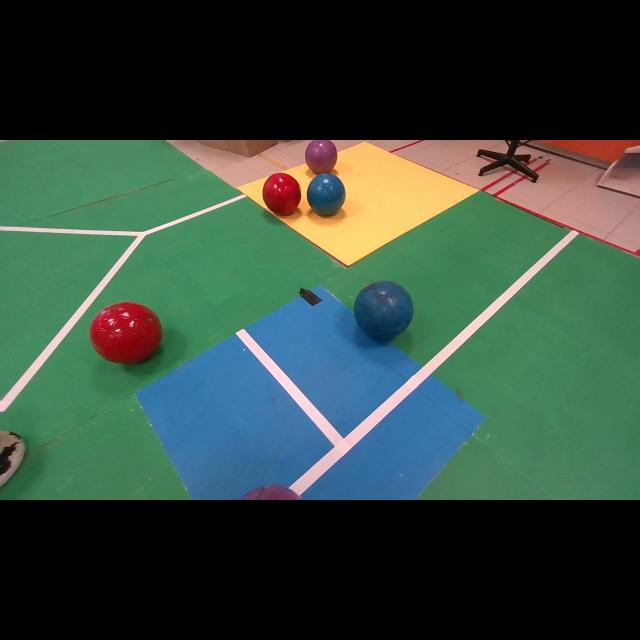B: (354, 281, 414, 341), (308, 174, 345, 216)
P: (305, 140, 338, 174)
R: (89, 301, 162, 364), (262, 174, 301, 216)
